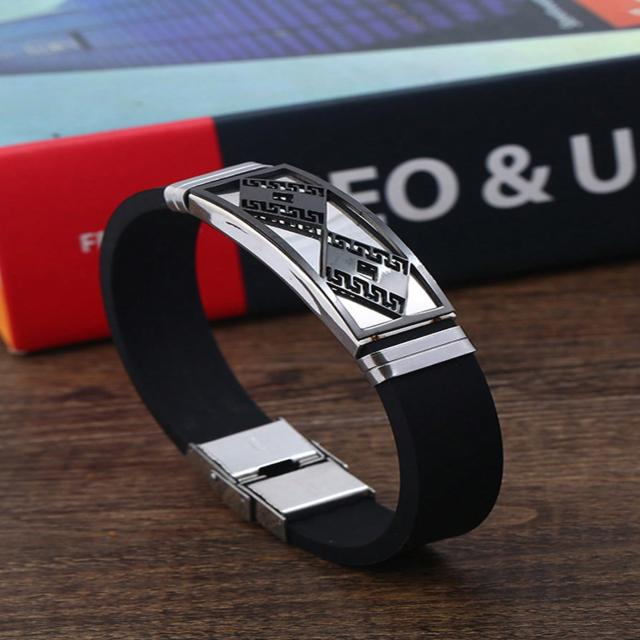bracelet: (62, 102, 538, 605)
